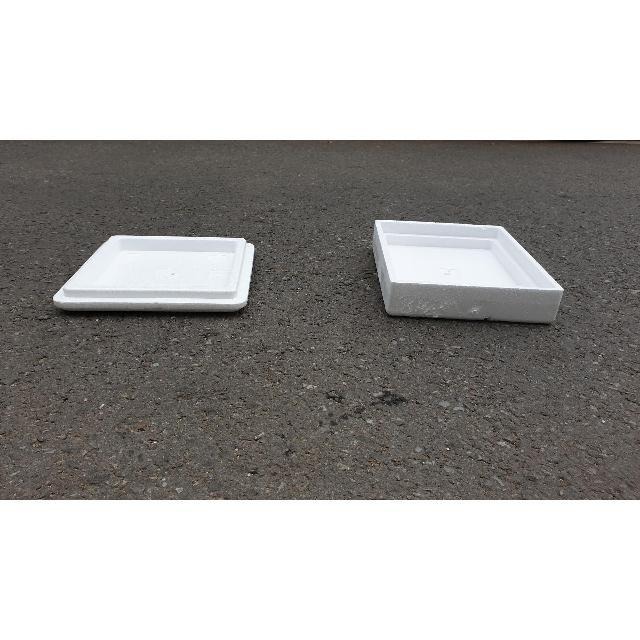Recipiente plastico: (375, 220, 562, 322), (54, 236, 254, 311)
